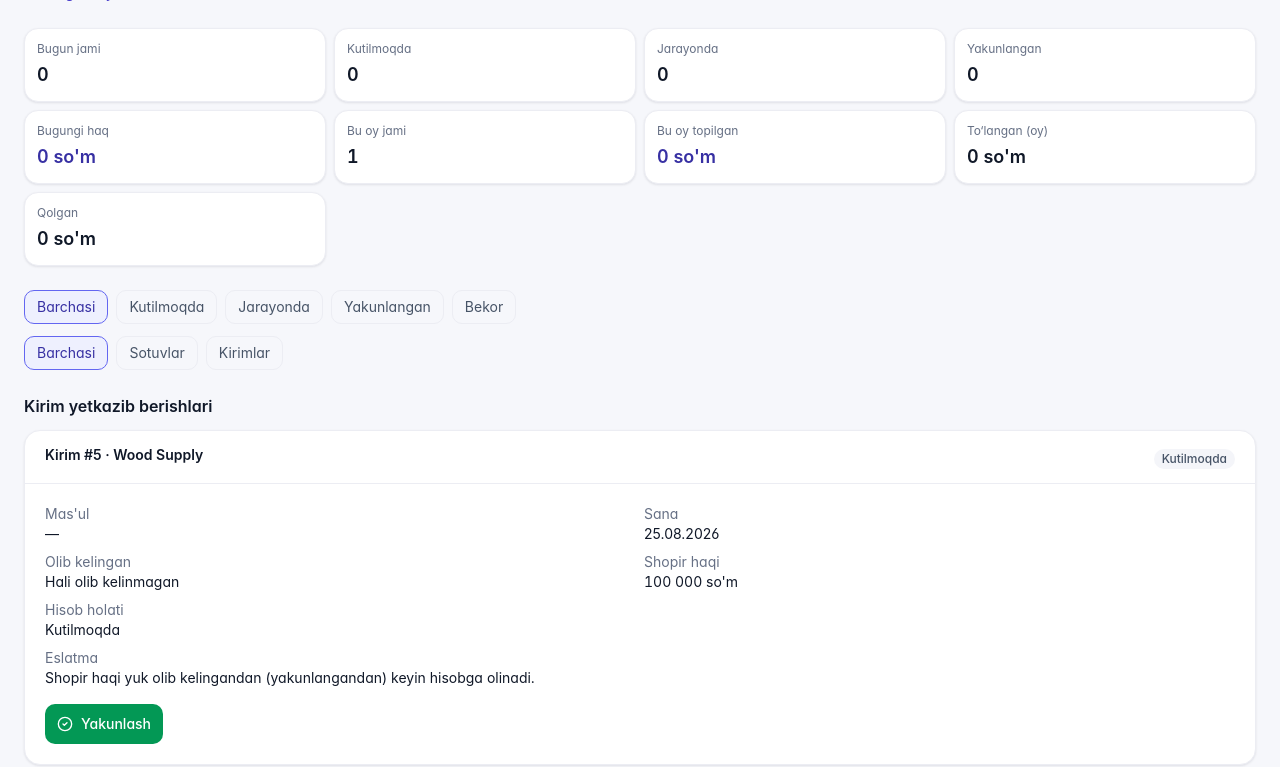
Test case: DeliveryPage › completes a pending purchase pickup
This screenshot has width=1280, height=767.
(page scrolled)
Click the button with test id "complete-purchase-delivery-pur_1" at (104, 724), box [45,704,163,744]
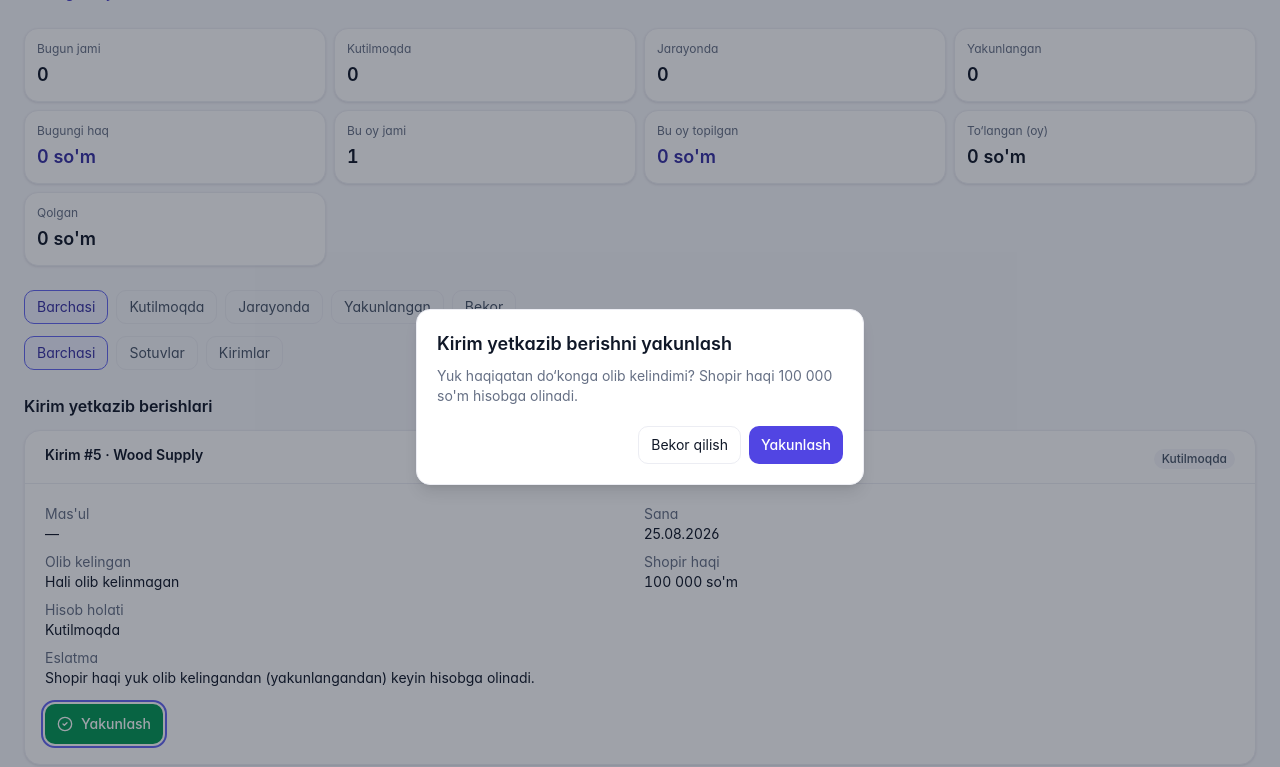
Click the button "Yakunlash" at (796, 445), box [749,426,843,464]
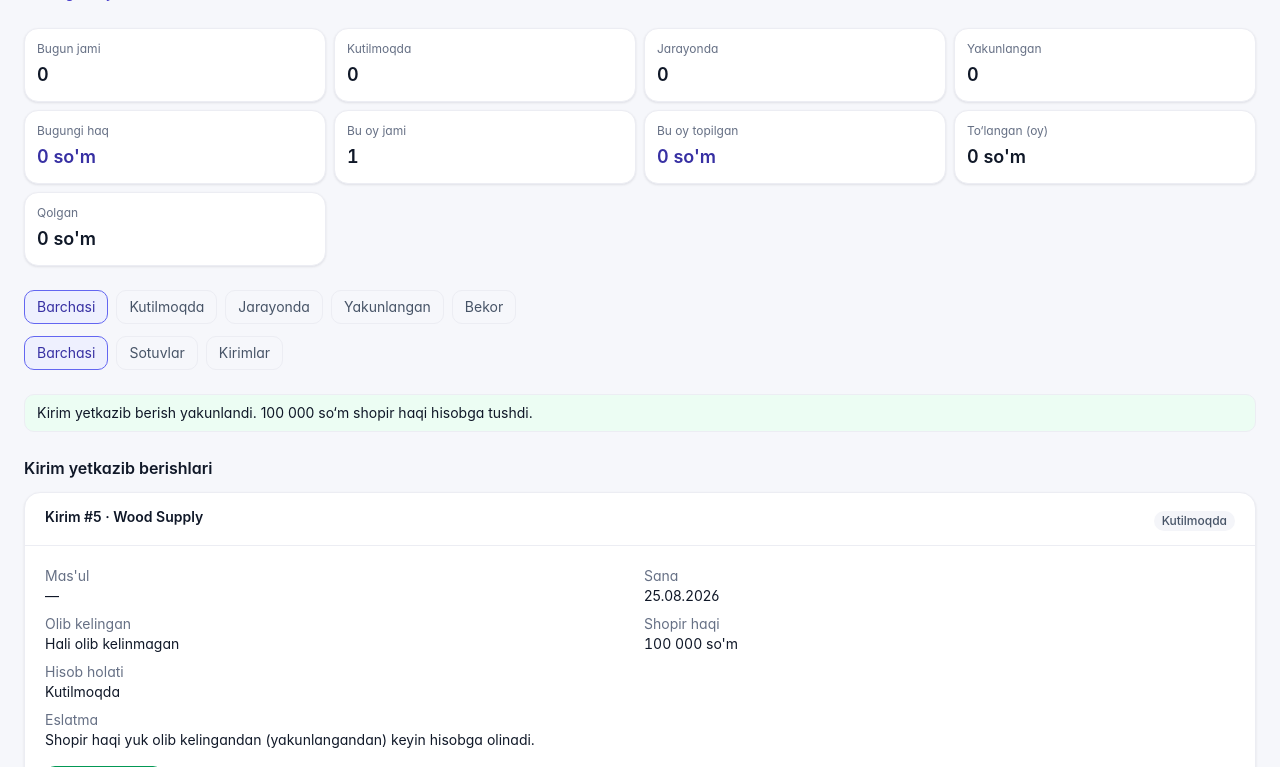
Expected: the text "Kirim yetkazib berish yakunlandi. 100 000 so‘m shopir haqi hisobga tushdi." is shown, [24,394,1256,432]
